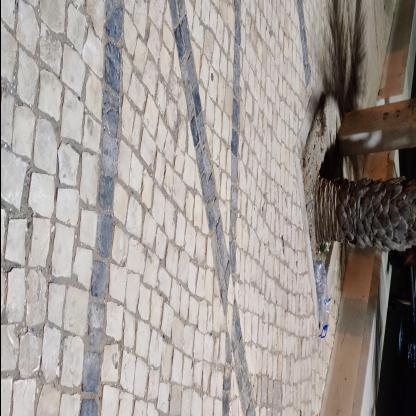plastik: (312, 260, 328, 338)
